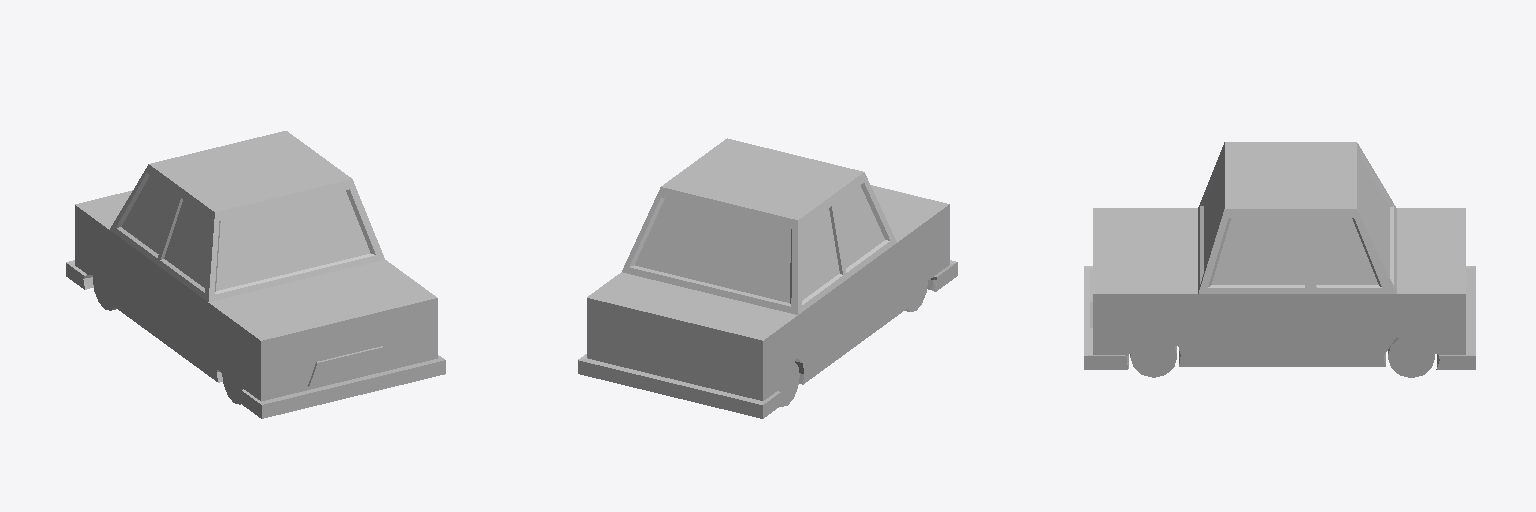
Rendered from car.obj.
3 renders of one model, left to right at view 1: azimuth 30°, elevation 25°; view 2: azimuth 150°, elevation 25°; view 3: azimuth 270°, elevation 25°, orthographic.
Parts seen in each view (by area): view 1: Cube; view 2: Cube; view 3: Cube.
Boxes of the visible parts, box(x1,y1,x2,y2) form: Cube: box(66, 131, 445, 418); Cube: box(578, 138, 957, 418); Cube: box(1084, 142, 1475, 377).
Size of the model in its own units: 2.29 by 1.9 by 4.18.